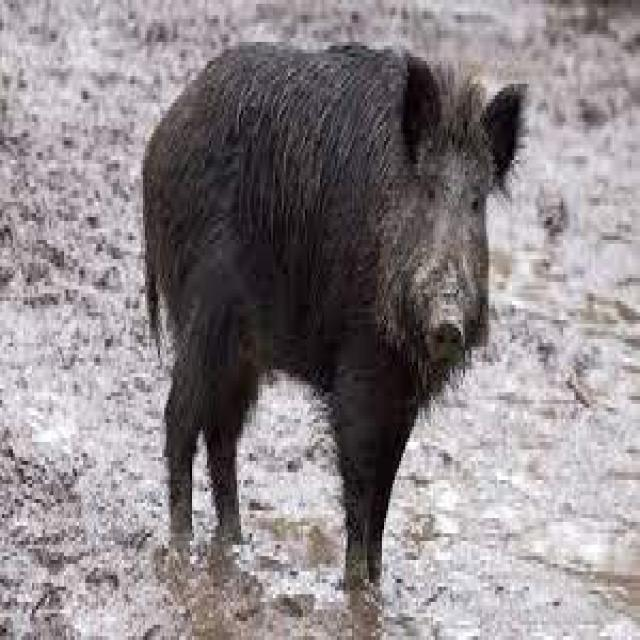boar: (119, 12, 548, 615)
